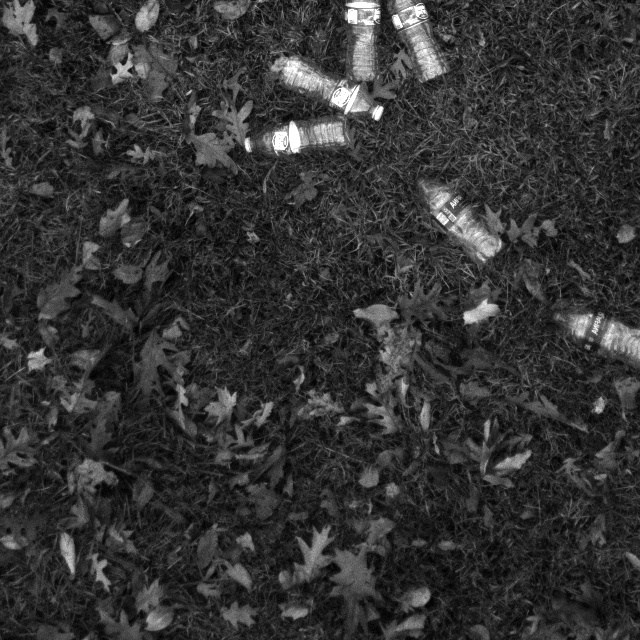bottle: (403, 166, 514, 274), (259, 44, 390, 134), (233, 101, 362, 174), (545, 300, 640, 380), (378, 0, 455, 94), (328, 0, 396, 94)
